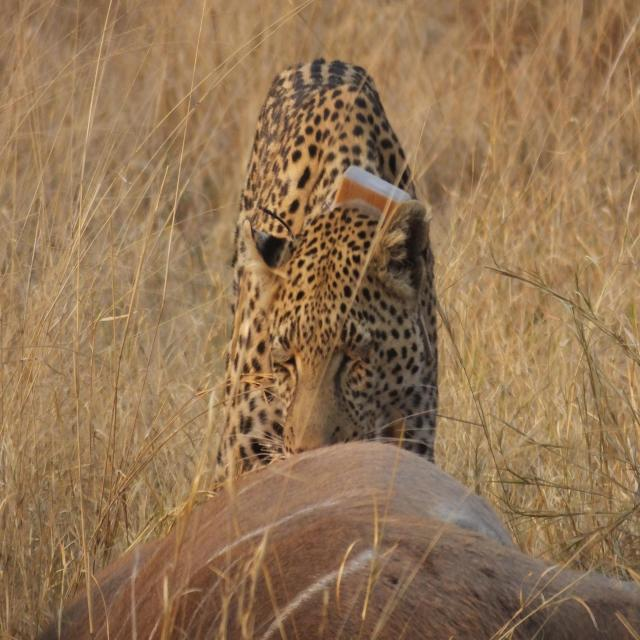Leopard: (209, 54, 441, 526)
